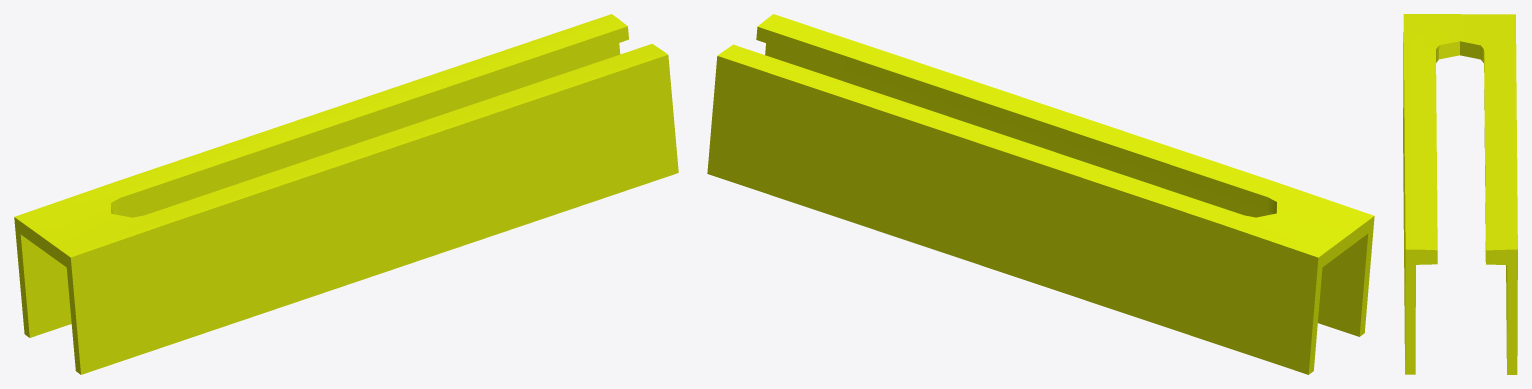
File: PlungerCache.fbx
3 renders of one model, left to right at view 1: azimuth 30°, elevation 25°; view 2: azimuth 150°, elevation 25°; view 3: azimuth 270°, elevation 25°, orthographic.
Parts seen in each view (by area): view 1: PlungerCache; view 2: PlungerCache; view 3: PlungerCache.
Part boxes in pixels (bbox=[...]): PlungerCache: bbox=[14, 14, 678, 374]; PlungerCache: bbox=[707, 14, 1374, 374]; PlungerCache: bbox=[1403, 14, 1517, 374].
Size of the model in its own units: 0.6408 by 0.1771 by 0.105.
